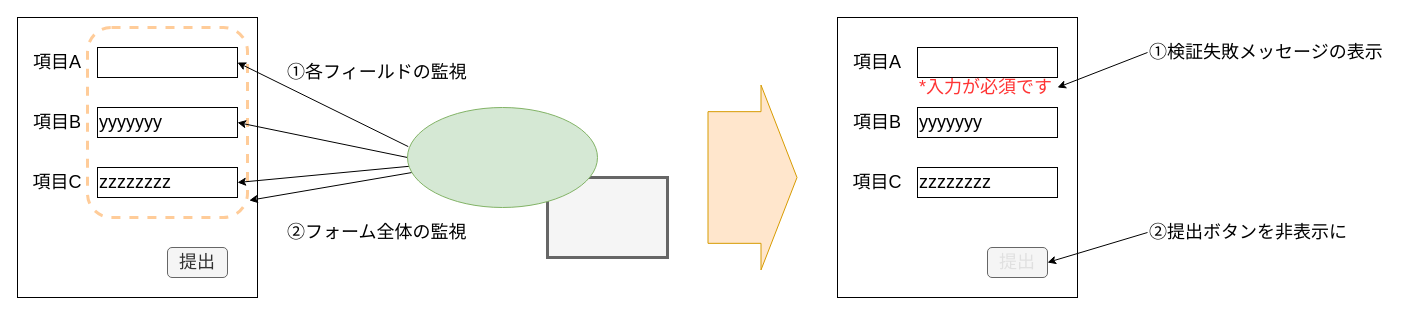
Image size: 1405x315. Some labels were removed from this diagram. The shapes that lost their labels are listed below. From the top down, each one's centre as x and y in pixels, then its label:
(502,157): Vee Validate
(607,217): Zod 検証スキーム
